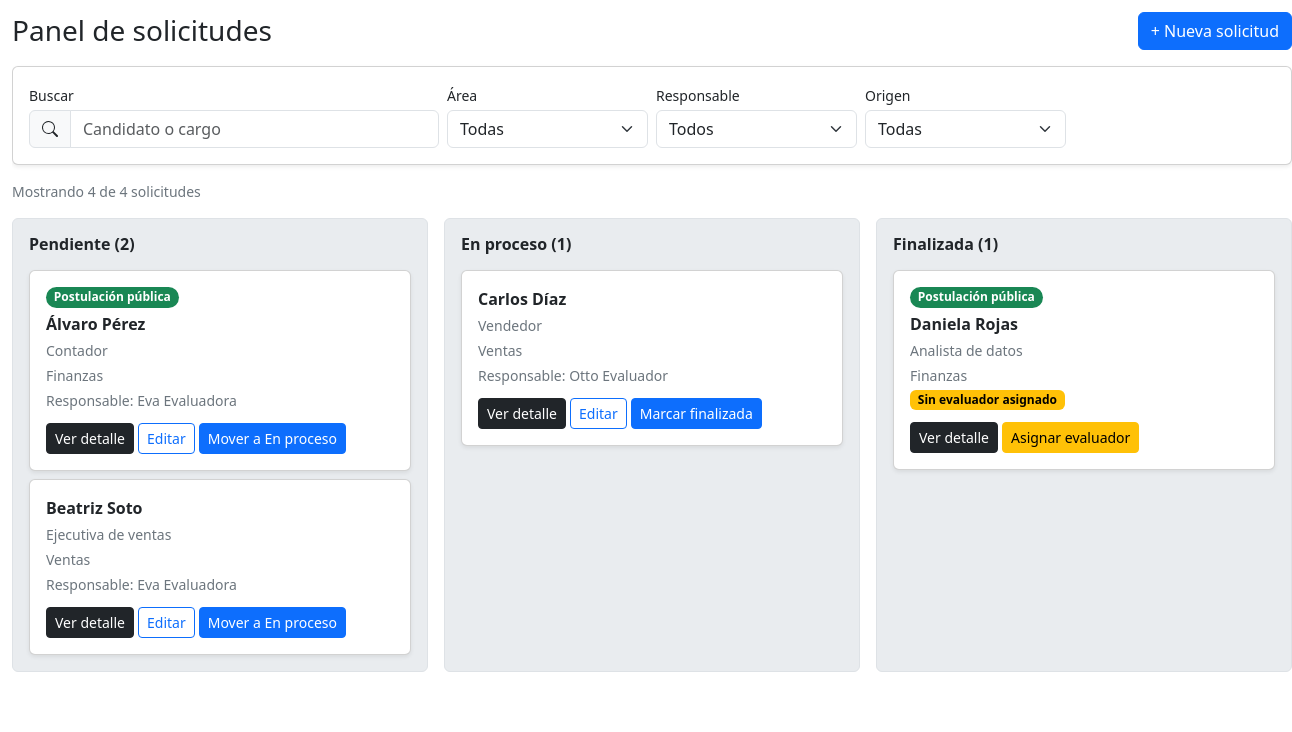
Test: Panel: búsqueda y filtros › "Limpiar filtros" aparece solo con filtros activos y lo restablece todo
The width and height of the screenshot is (1292, 732).
Check: the heading "Panel de solicitudes" is shown, box left=12, top=14, right=272, bottom=48
Check: the button "Limpiar filtros" is not shown
Type "soto" into the search field labelled "Buscar" at (254, 129), box left=70, top=110, right=439, bottom=148
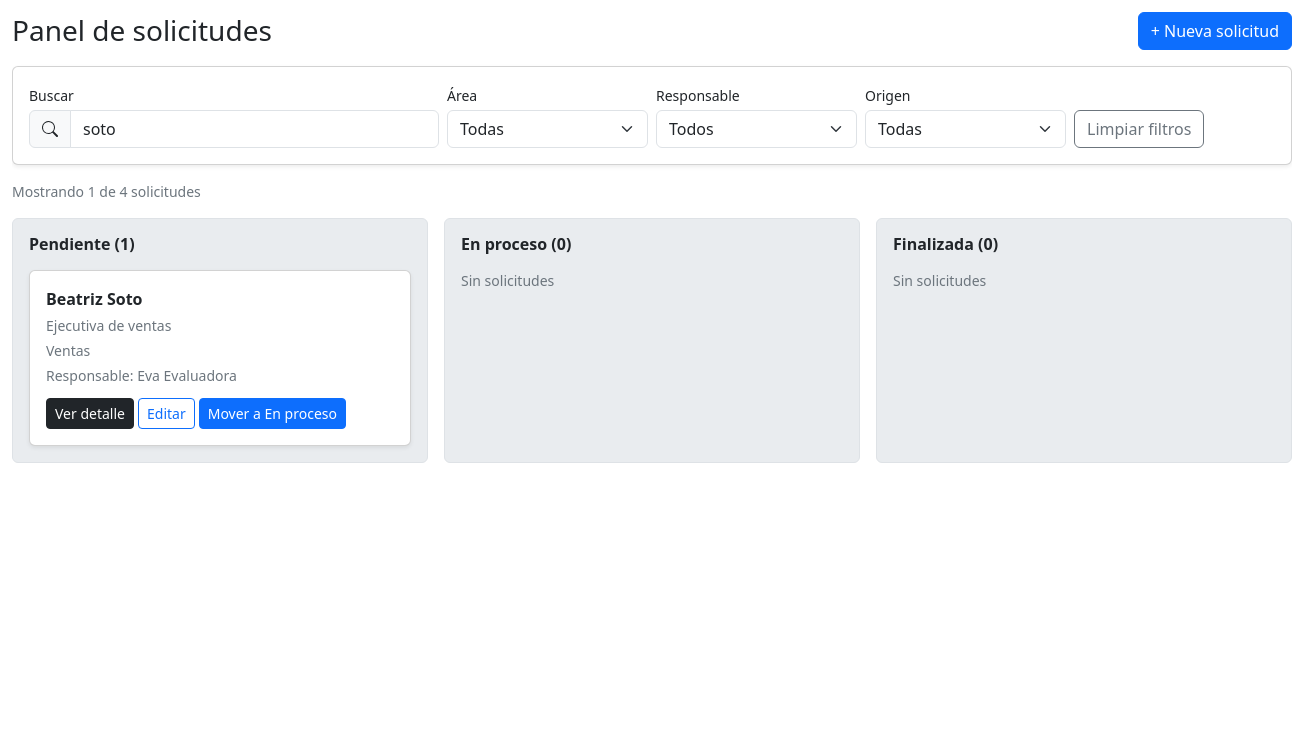
Select "Ventas" in the dropdown labelled "Área" at (548, 129), box left=447, top=110, right=648, bottom=148
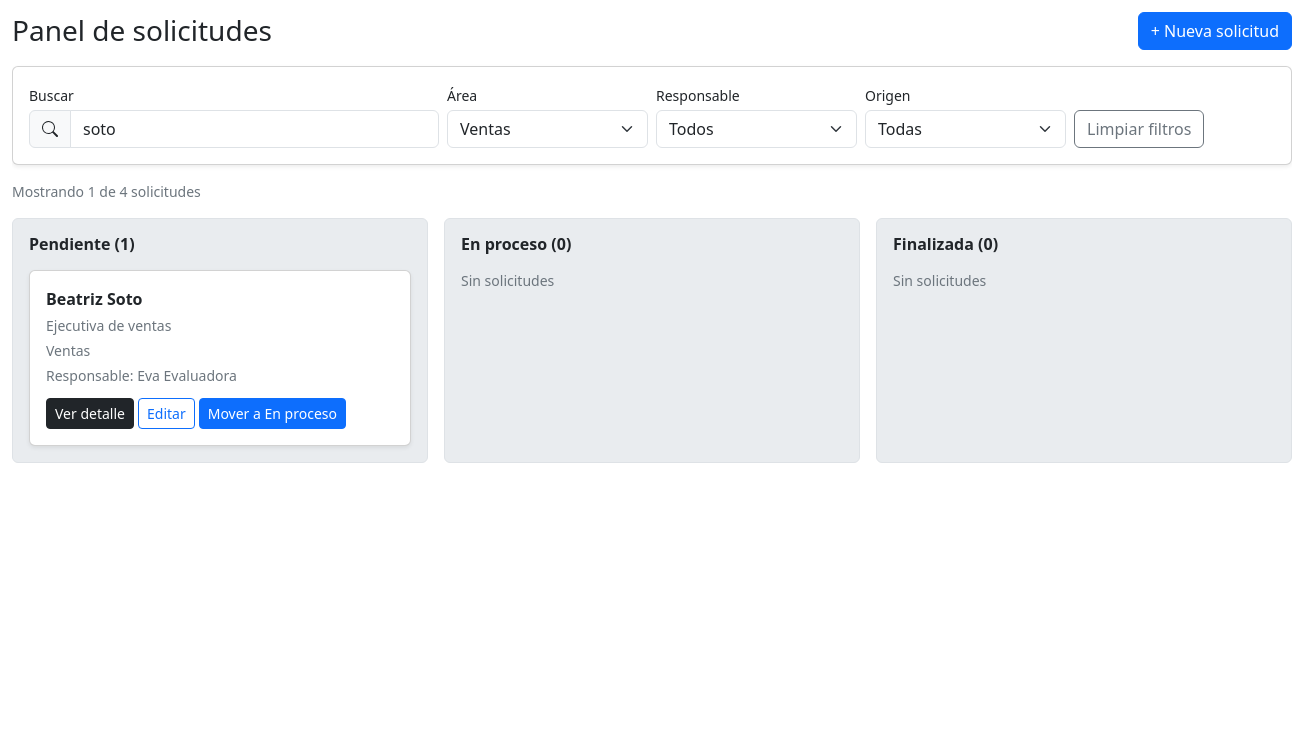
Select "Creadas por el analista" in the dropdown labelled "Origen" at (966, 129), box left=865, top=110, right=1066, bottom=148
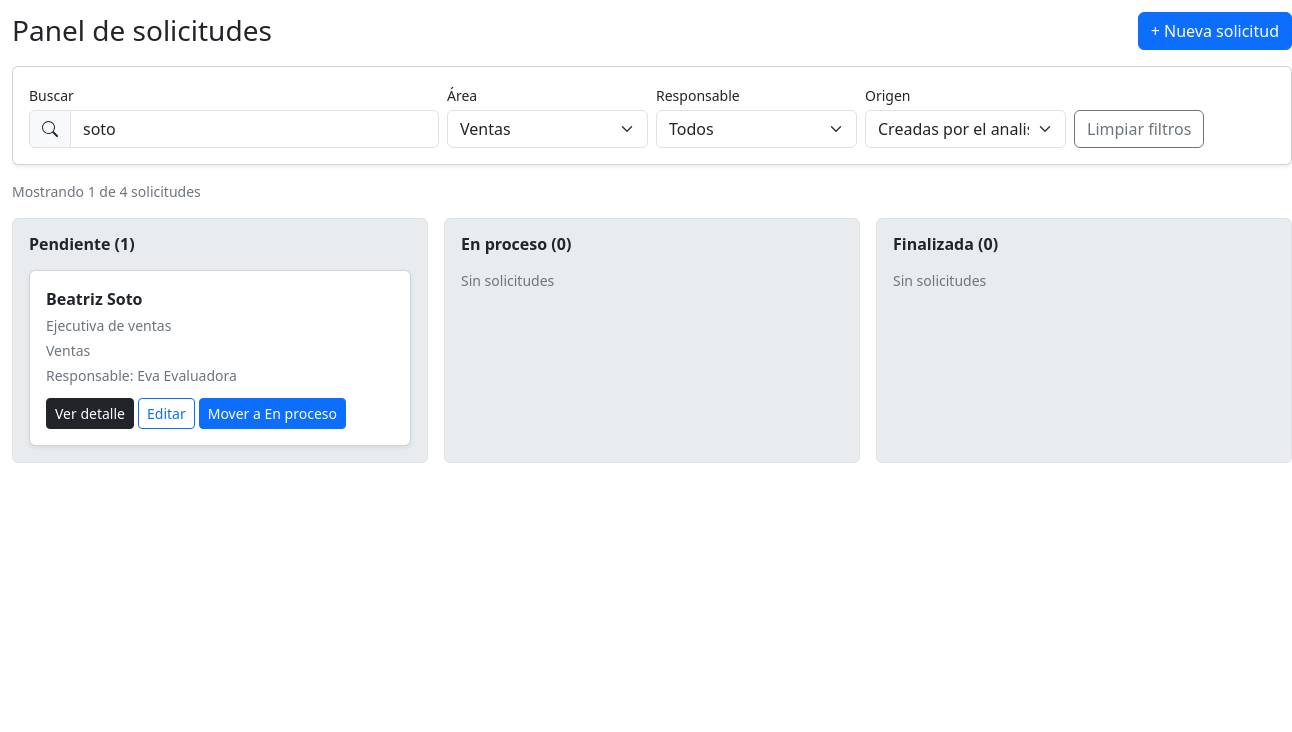
Check: the button "Limpiar filtros" is shown
Click the button "Limpiar filtros" at (1139, 129), box left=1074, top=110, right=1204, bottom=148
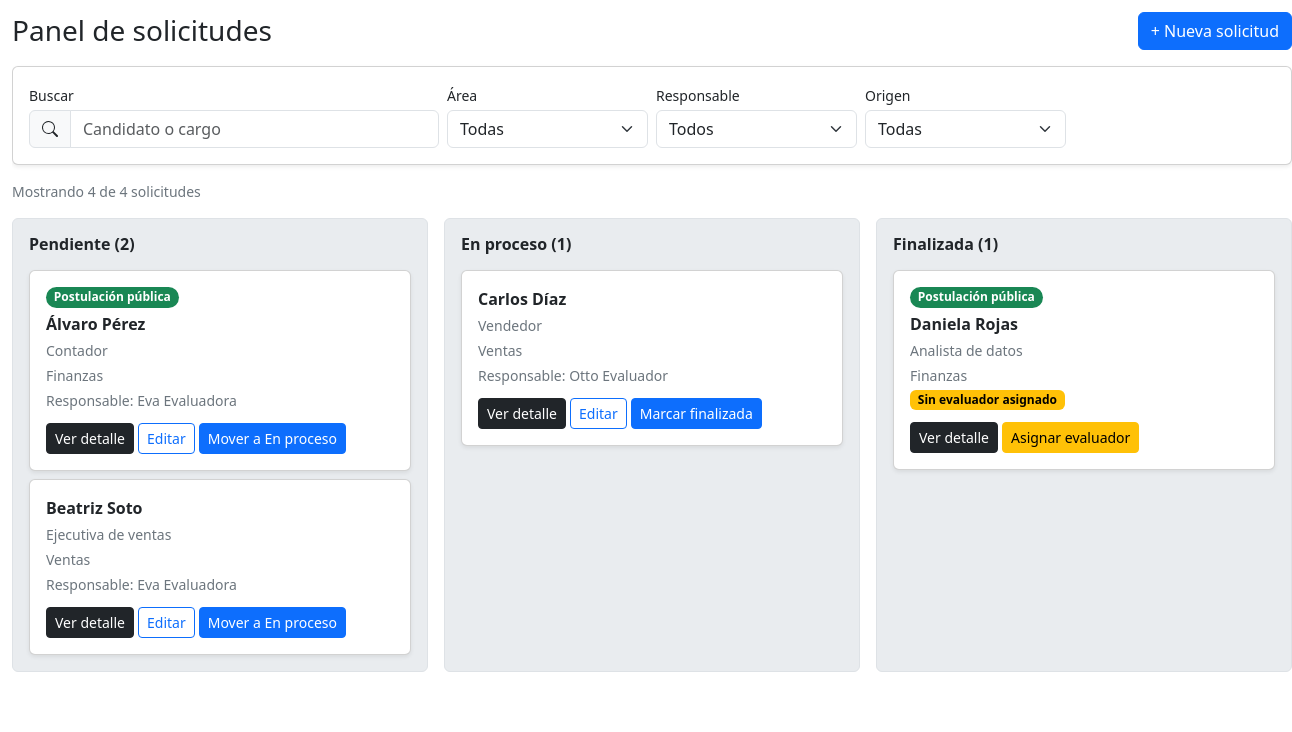
Check: the dropdown labelled "Responsable" shows "Todos", box left=656, top=110, right=857, bottom=148
Check: the button "Limpiar filtros" is gone
Check: the search field labelled "Buscar" is empty, box left=70, top=110, right=439, bottom=148
